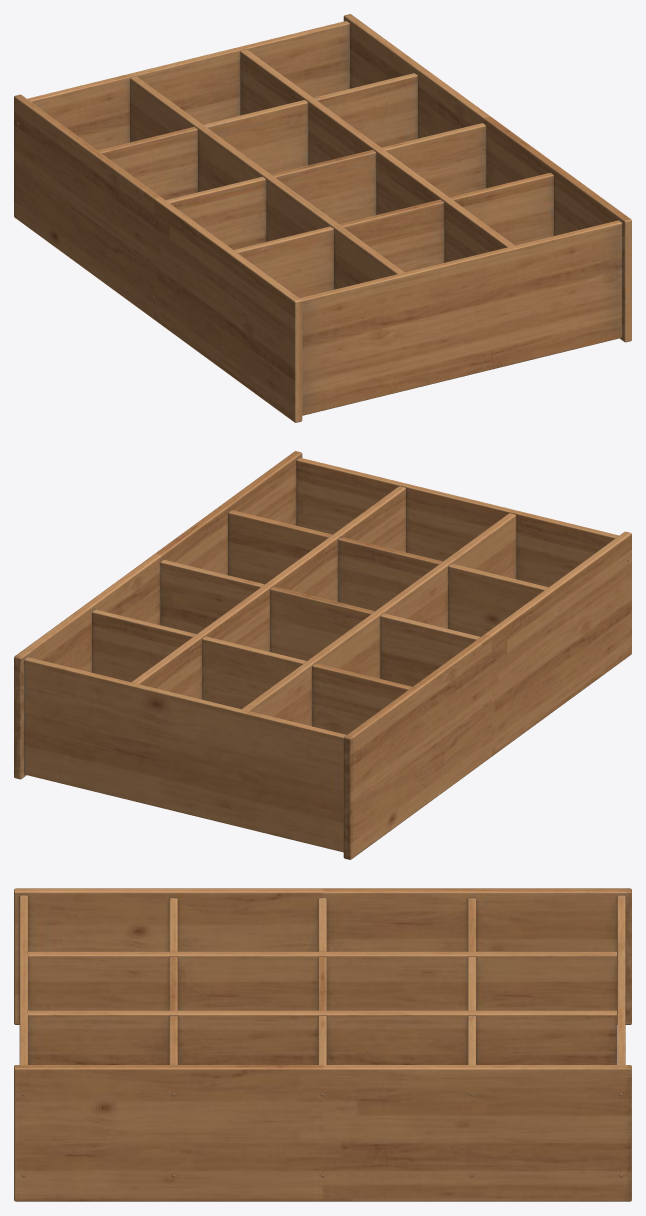
Rendered from wooden_display_shelves_01_b.glb.
3 renders of one model, top to bottom at view 1: azimuth 30°, elevation 25°; view 2: azimuth 150°, elevation 25°; view 3: azimuth 270°, elevation 25°, orthographic. The views are drawn at different scales.
Parts seen in each view (by area): view 1: wooden_display_shelves_01_b; view 2: wooden_display_shelves_01_b; view 3: wooden_display_shelves_01_b.
Boxes of the visible parts, x1=… form: wooden_display_shelves_01_b: x1=14, y1=14, x2=631, y2=422; wooden_display_shelves_01_b: x1=14, y1=451, x2=631, y2=859; wooden_display_shelves_01_b: x1=14, y1=888, x2=631, y2=1201.
Size of the model in its own units: 1.08 by 0.3715 by 1.56.
Materials: 1 (1 with a texture image).
